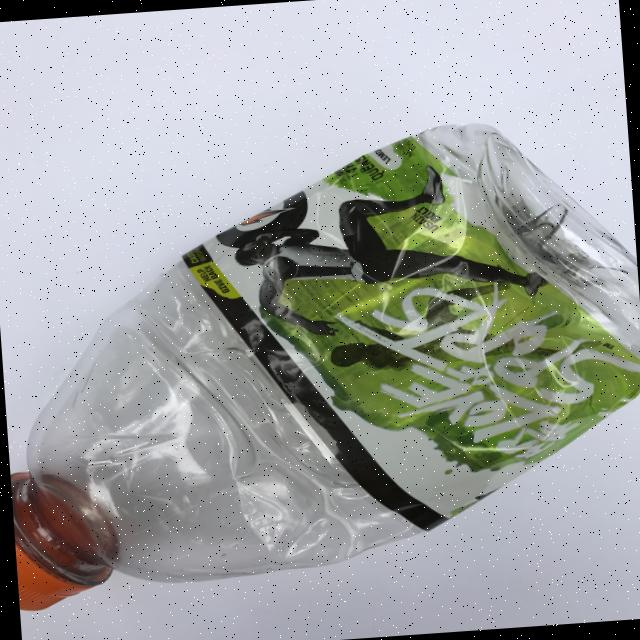plastic: (0, 110, 640, 611)
